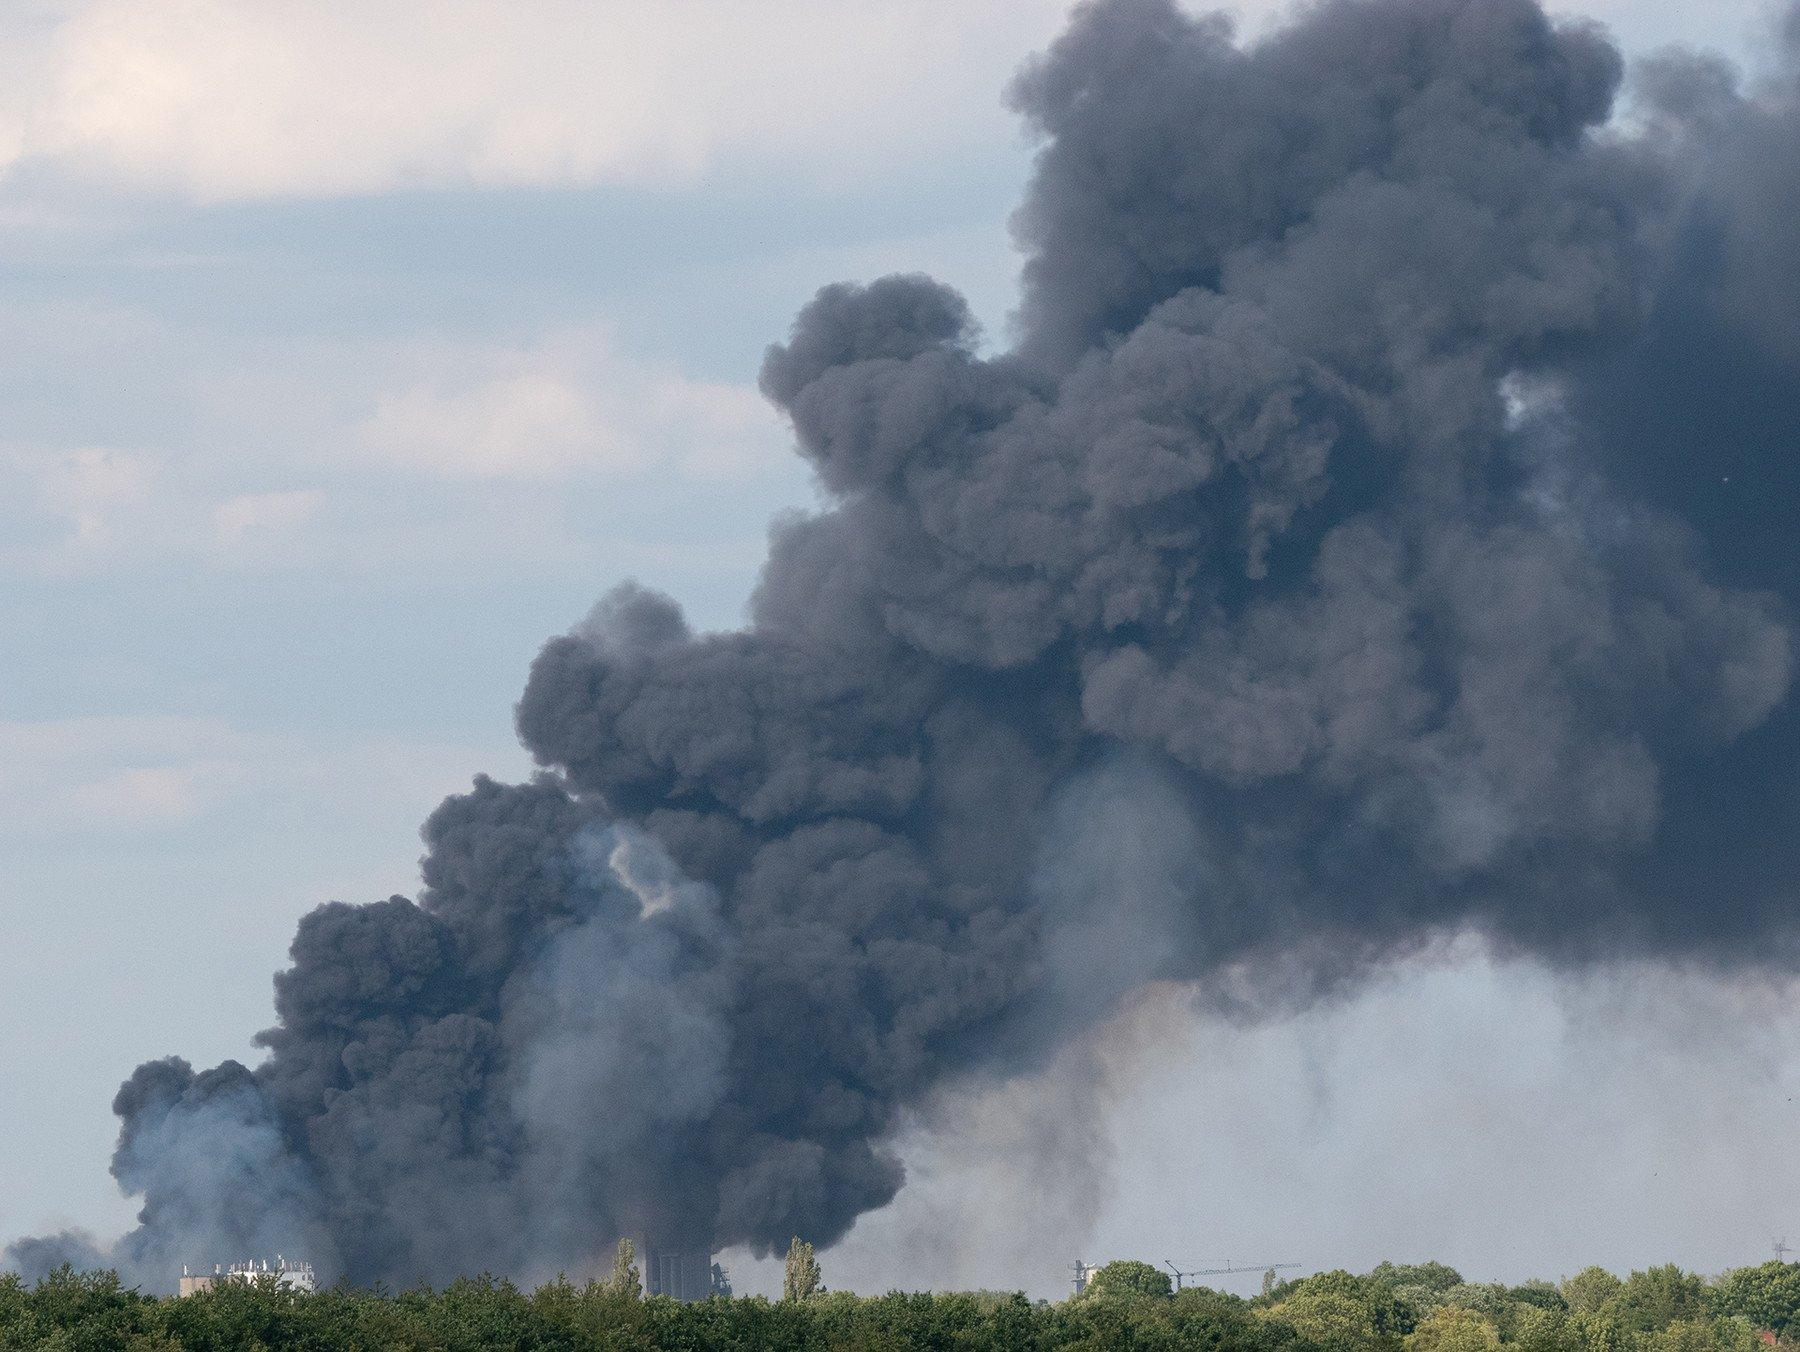smoke: (115, 6, 1789, 1228)
